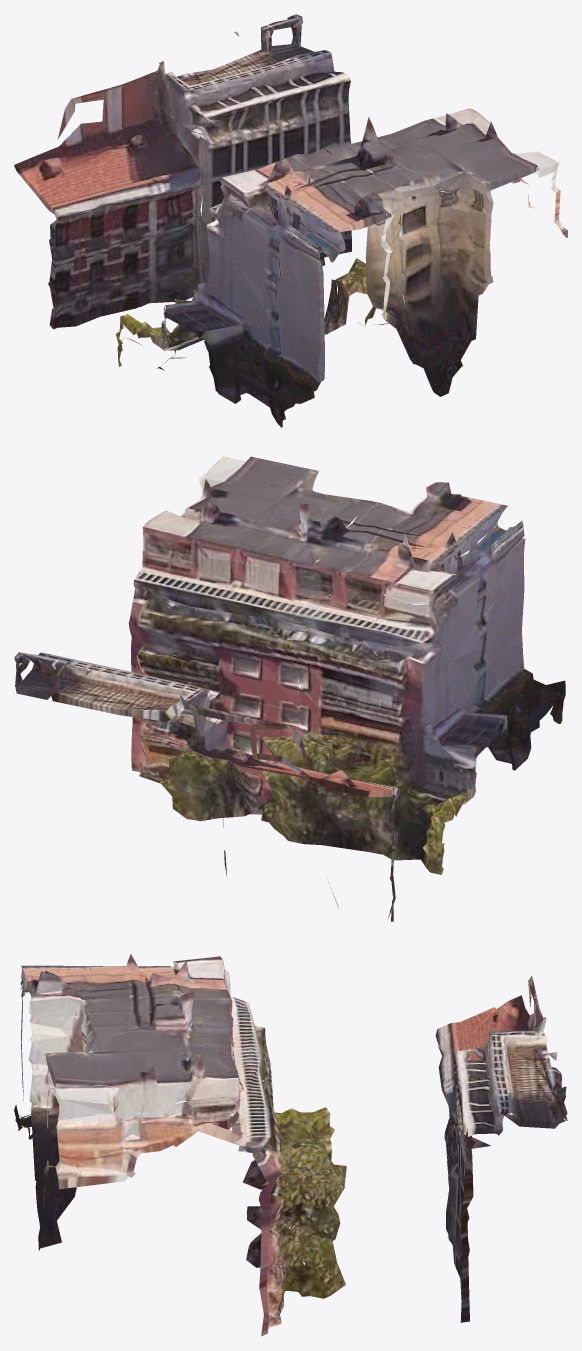
The picture shows the model from 3 angles, top to bottom: view 1: azimuth 30°, elevation 25°; view 2: azimuth 150°, elevation 25°; view 3: azimuth 270°, elevation 25°; orthographic projection. The views are drawn at different scales.
Visible parts, largest first — view 1: Mesh_0; view 2: Mesh_0; view 3: Mesh_0.
Part boxes in pixels (x1,y1,x2,y2): Mesh_0: (14,14,567,427); Mesh_0: (14,456,565,921); Mesh_0: (14,954,567,1336).
Bounding box in the file's own units: 33.33 × 23.12 × 41.5.
2 materials, 2 textured.
